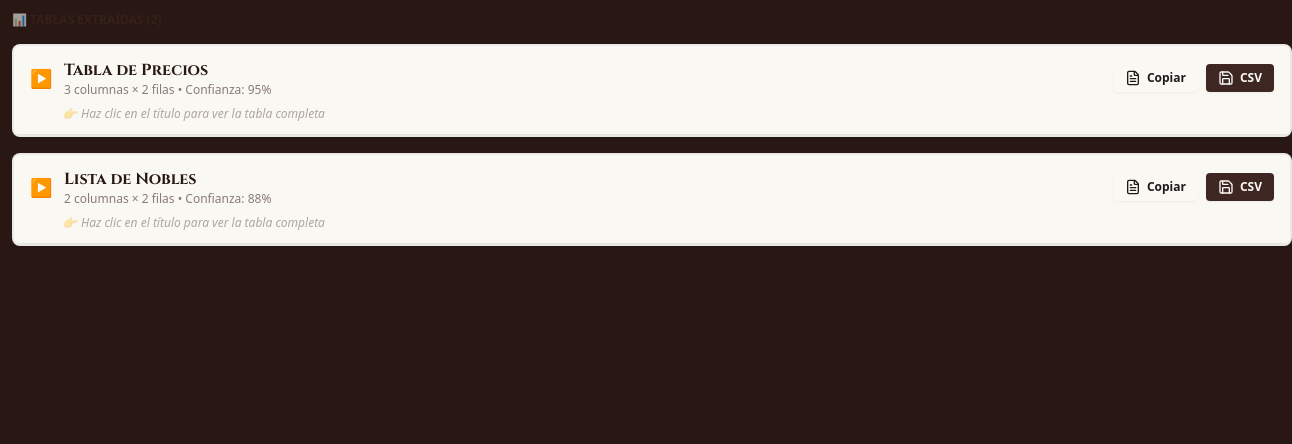
Test: TableViewer Component › debe expandir/colapsar tabla al hacer clic
Expected: the text "Trigo" is not shown
Click the text "Tabla de Precios": (168, 78) [64, 58, 271, 98]
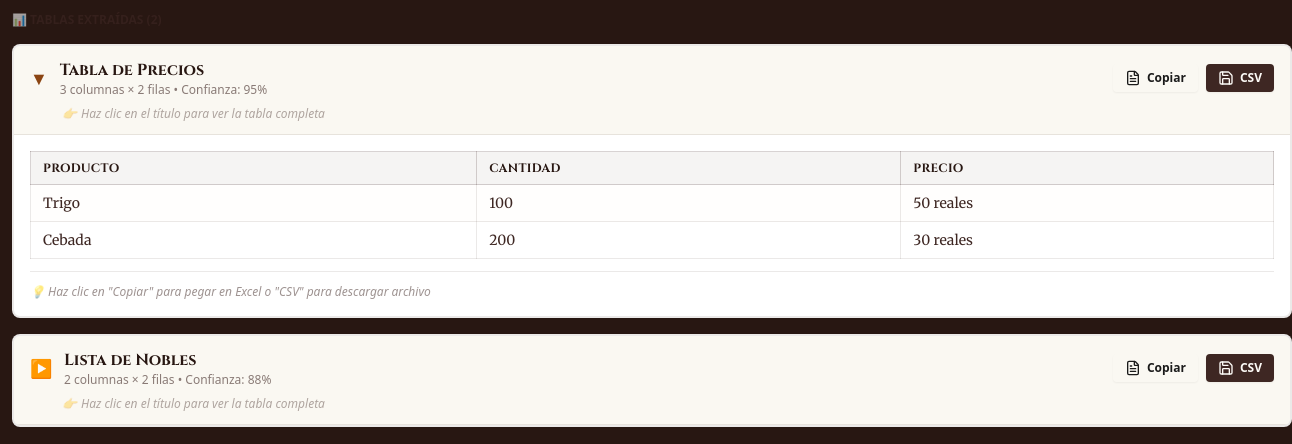
Now the text "Trigo" is shown, box [30, 184, 477, 222]
Now the text "100" is shown, box [477, 184, 901, 222]
Now the text "50 reales" is shown, box [901, 184, 1274, 222]
Click the text "Tabla de Precios": (164, 78) [60, 58, 267, 98]
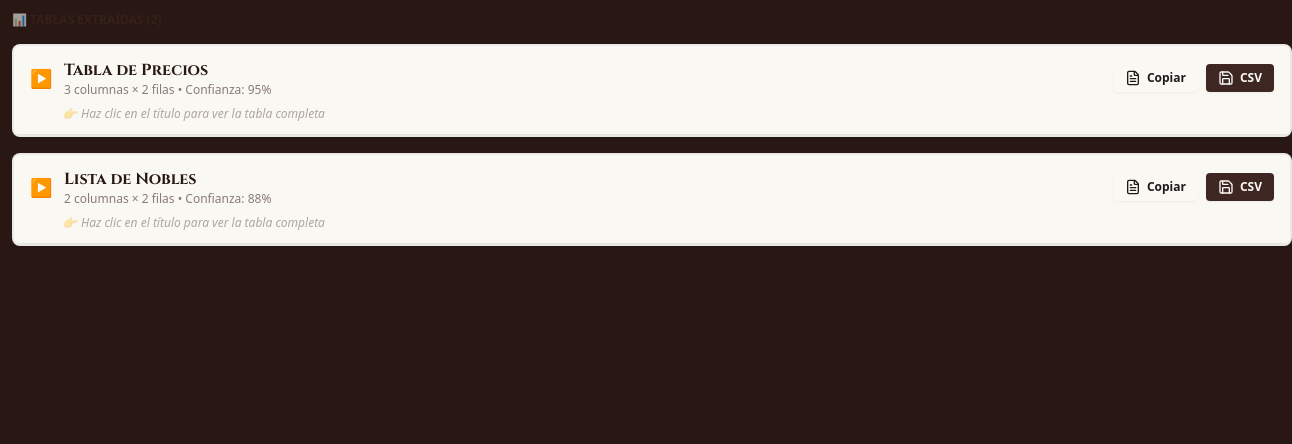
Now the text "Trigo" is gone
